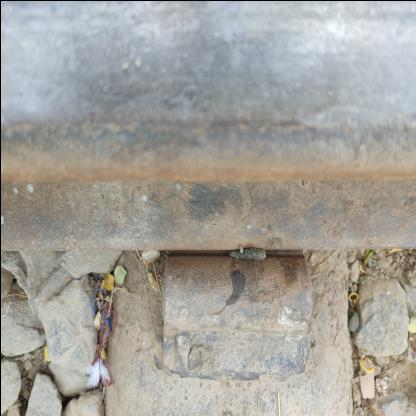Defective: (132, 203, 347, 415)
